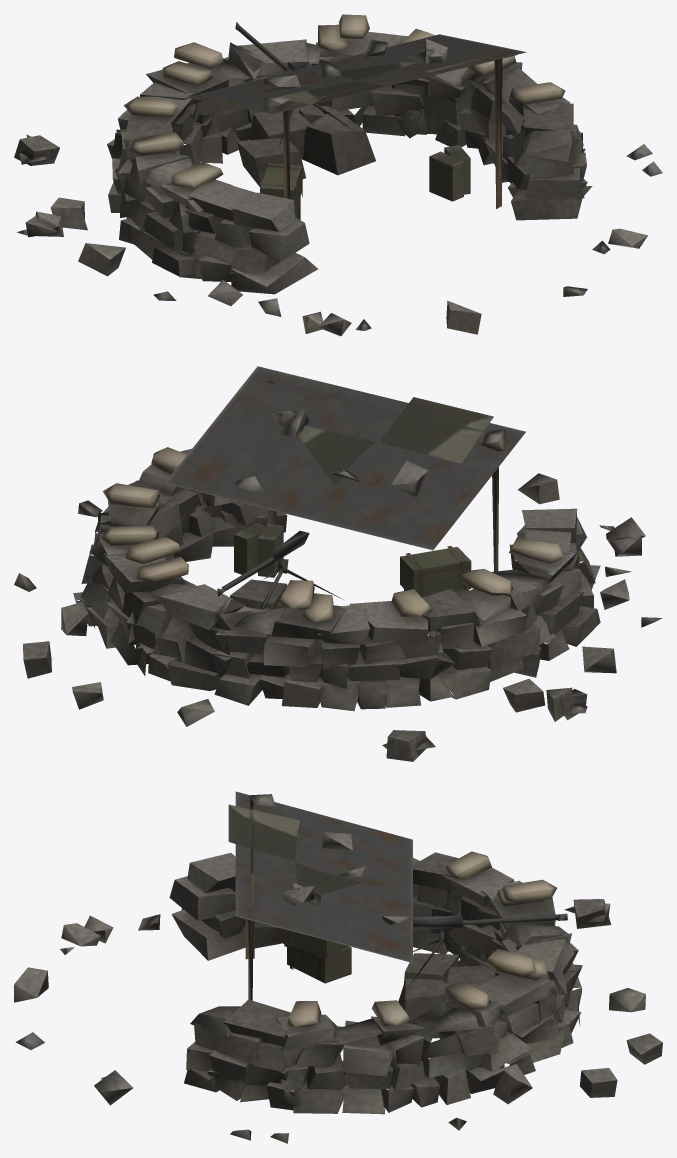
File: sangar_lod1.glb
The picture shows the model from 3 angles, top to bottom: view 1: azimuth 30°, elevation 25°; view 2: azimuth 150°, elevation 25°; view 3: azimuth 270°, elevation 25°; orthographic projection. The views are drawn at different scales.
Visible parts, largest first — view 1: walls; view 2: walls; view 3: walls.
Part boxes in pixels (x1,y1,x2,y2): walls: [14, 14, 662, 336]; walls: [14, 366, 662, 761]; walls: [14, 791, 662, 1143].
Size of the model in its own units: 6.55 by 1.91 by 6.59.
Materials: 1 (1 with a texture image).
